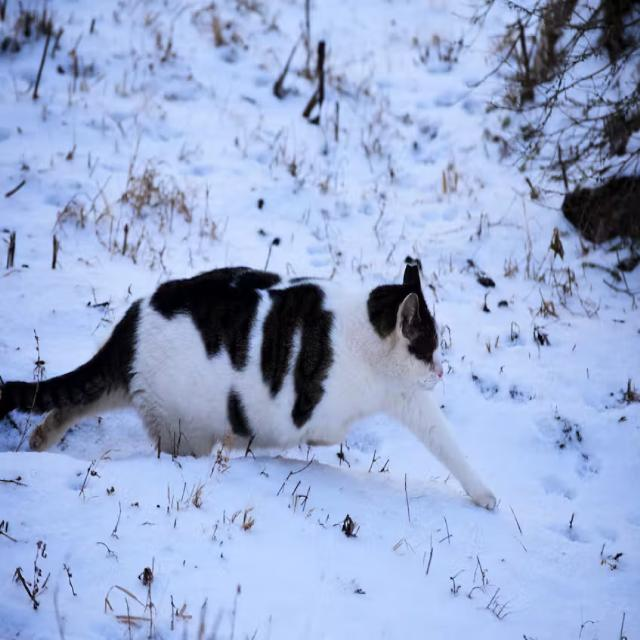cat: (0, 265, 495, 508)
